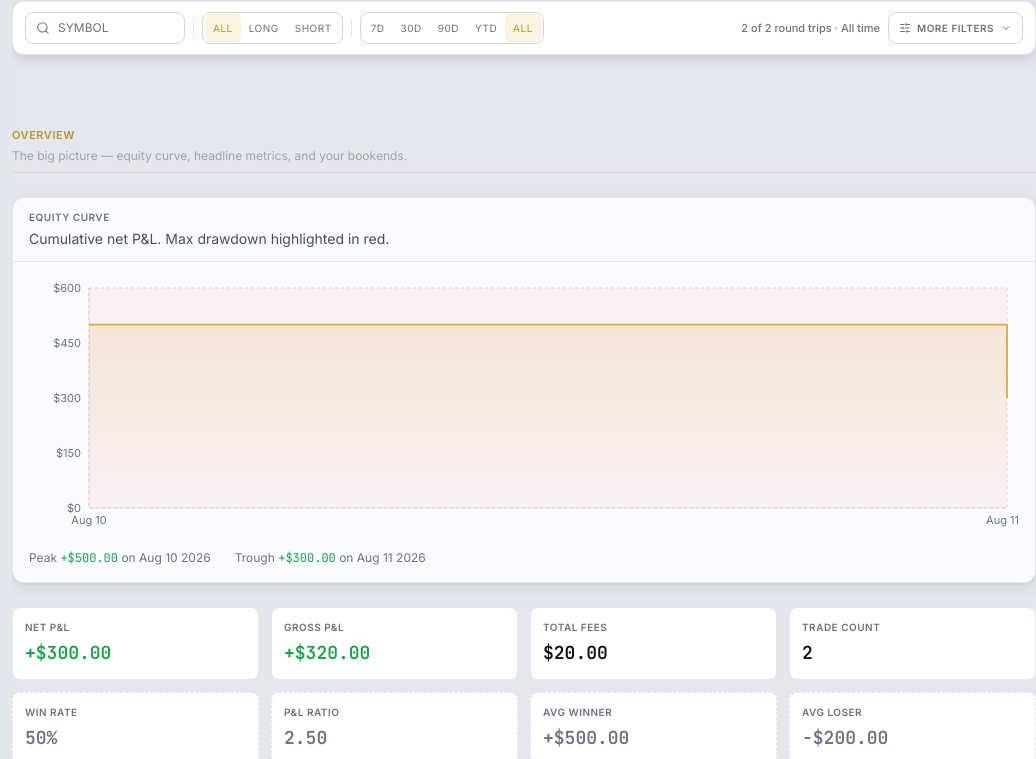
T4 RESET renders only when there is something to reset › appears the moment a non-date filter narrows the set
Type "AAAA" into the field with placeholder "Symbol" at (116, 28), box x1=58 y1=20 x2=174 y2=36
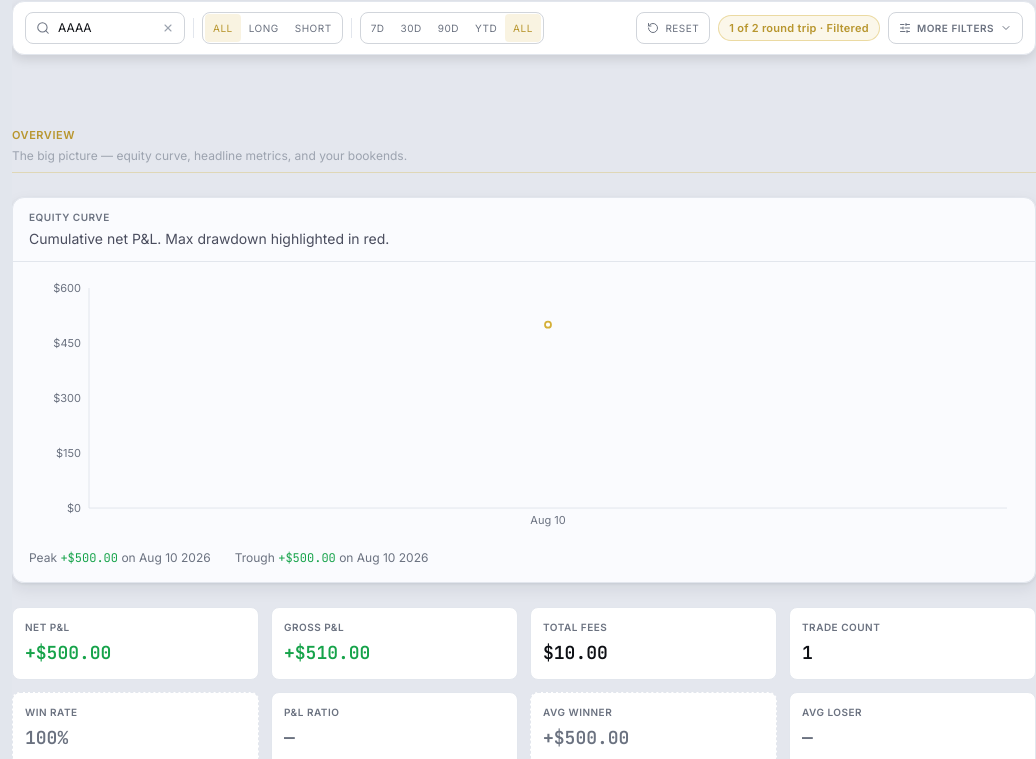
Expected: the button titled "Reset all filters" is shown, x1=636 y1=12 x2=710 y2=44
